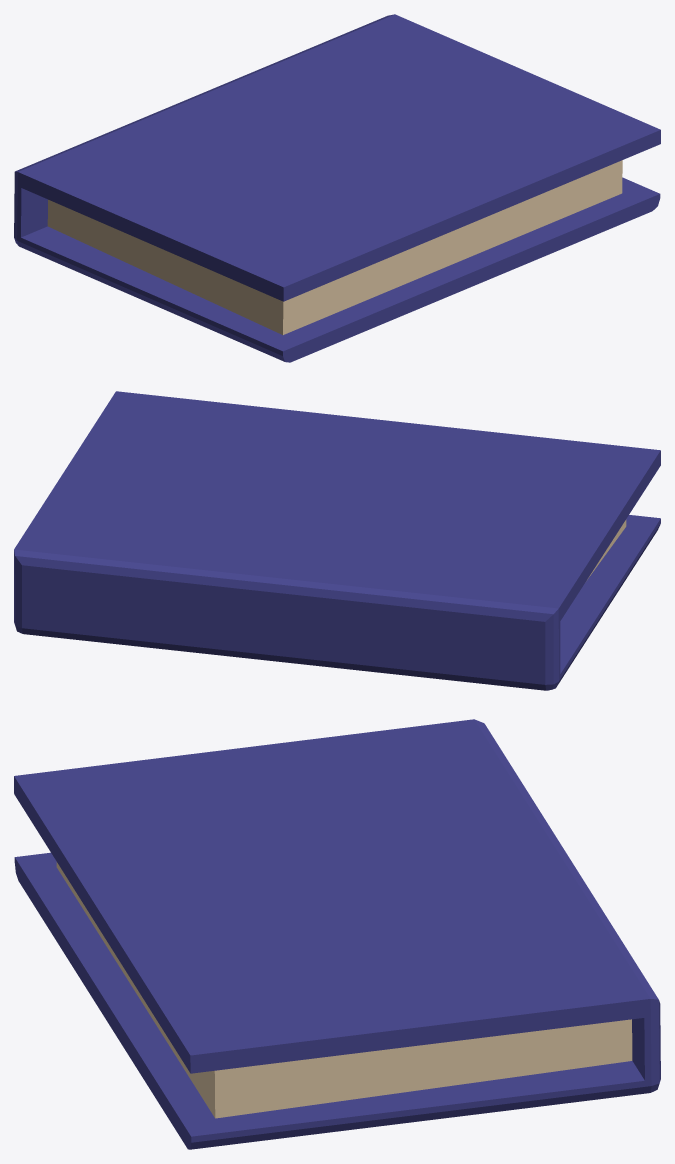
File: BookBlue.fbx
3 views of the same model, one above another, from view 1: azimuth 30°, elevation 25°; view 2: azimuth 150°, elevation 25°; view 3: azimuth 270°, elevation 25° (orthographic). The views are drawn at different scales.
Parts seen in each view (by area): view 1: Cube.014; view 2: Cube.014; view 3: Cube.014.
Boxes of the visible parts, box(x1,y1,x2,y2) form: Cube.014: box(14, 14, 660, 362); Cube.014: box(14, 391, 660, 690); Cube.014: box(14, 719, 660, 1149).
Size of the model in its own units: 89.34 by 13.5 by 74.16.
